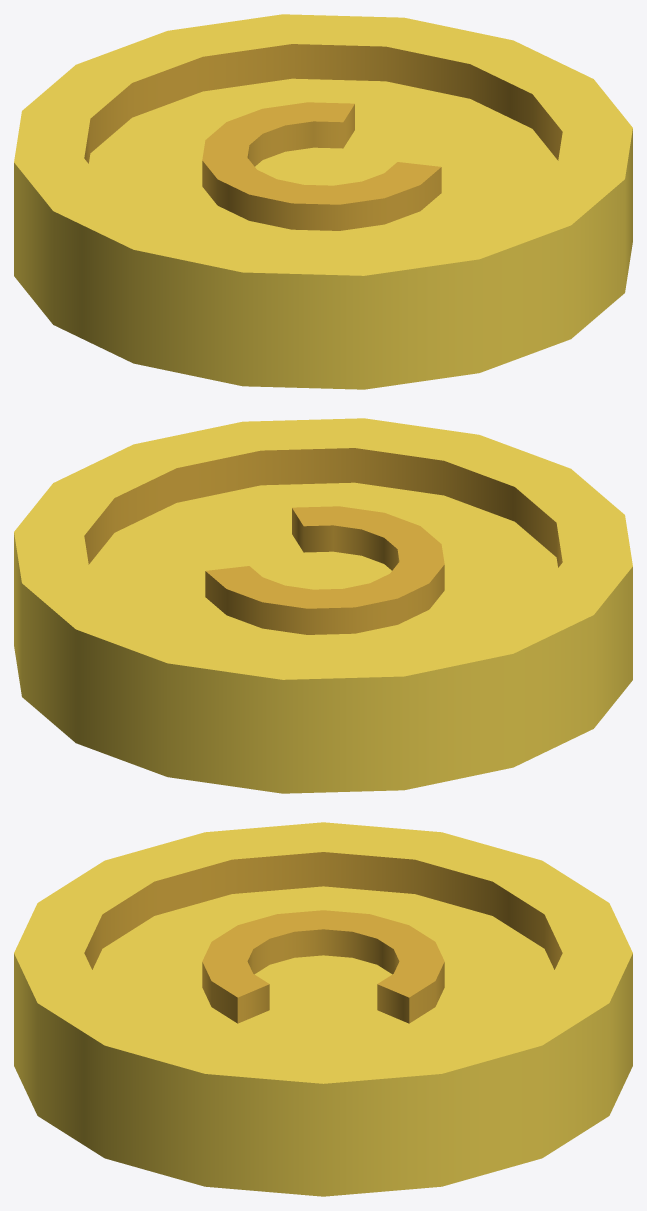
File: Coin_Gold.fbx
The picture shows the model from 3 angles, top to bottom: view 1: azimuth 30°, elevation 25°; view 2: azimuth 150°, elevation 25°; view 3: azimuth 270°, elevation 25°; orthographic projection.
Parts seen in each view (by area): view 1: Coin_Gold; view 2: Coin_Gold; view 3: Coin_Gold.
Part boxes in pixels (x1,y1,x2,y2): Coin_Gold: (14, 14, 632, 389); Coin_Gold: (14, 418, 632, 793); Coin_Gold: (14, 822, 632, 1196).
Bounding box in the file's own units: 0.1763 × 0.0354 × 0.1763.
